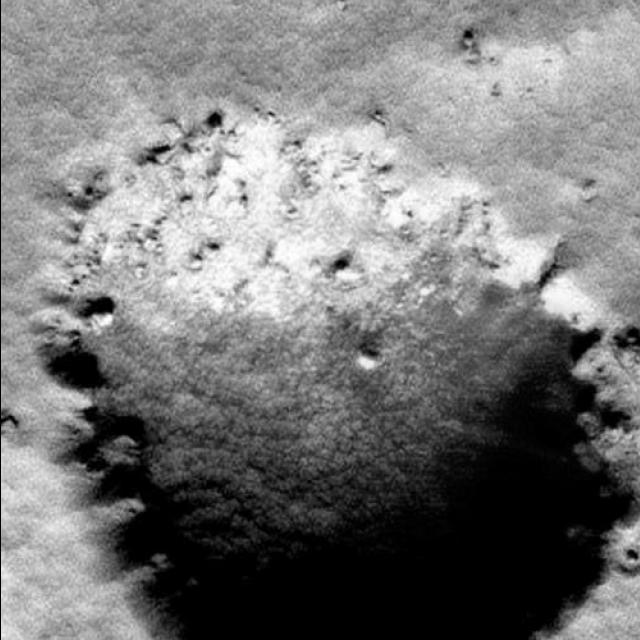crater: (0, 0, 640, 640), (0, 13, 640, 640)
